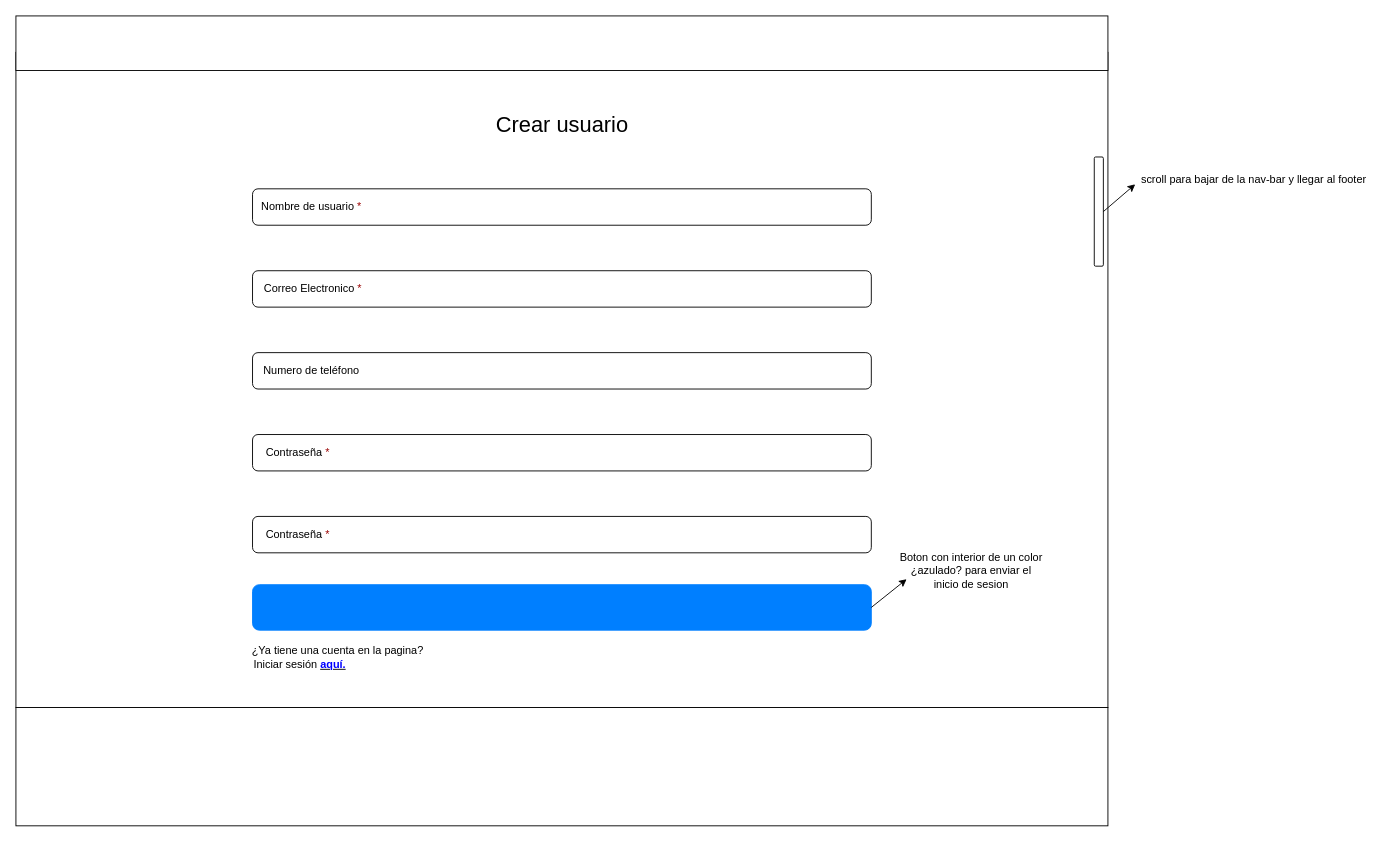
This 1388x842 diagram has some shape labels left out. The shapes that lost their labels are listed below. From the top down, each one's centre as x and y in pixels, then its label:
(x=561, y=43): nav bar
(x=561, y=607): Crear cuenta
(x=561, y=766): Footer
